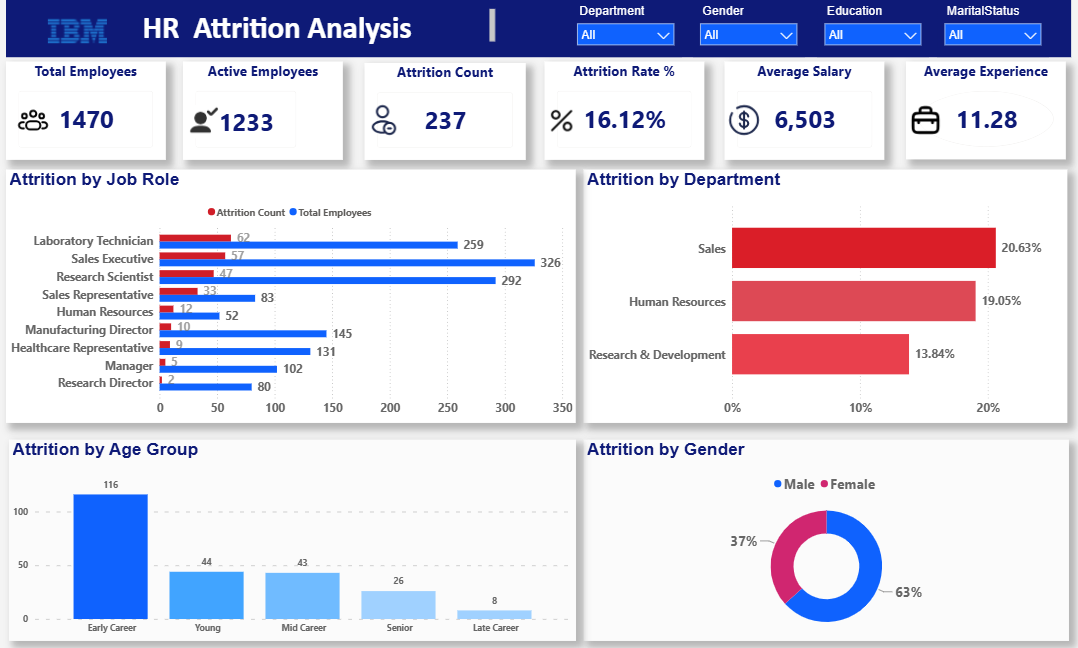

The dashboard page shown, as its layout file describes it:
{"tool":"powerbi","page":{"name":"Excutive Summery ","canvas":[1500,900],"ordinal":0},"visuals":[{"type":"cardVisual","title":"Total  Employees","fields":{"Data":["ibm_hr employee_attrition_dataset.Total Employees"]},"box":[9.1,88.6,222,136.4],"z":0},{"type":"cardVisual","title":"Active Employees","fields":{"Data":["ibm_hr employee_attrition_dataset.Active Employees"]},"box":[256.8,88.6,222.7,136.4],"z":1000},{"type":"cardVisual","title":"Attrition Count","fields":{"Data":["ibm_hr employee_attrition_dataset.Attrition Count"]},"box":[506.8,86.4,222.7,136],"z":2000},{"type":"cardVisual","title":"Attrition Rate %","fields":{"Data":["ibm_hr employee_attrition_dataset.Attrition Rate %"]},"box":[756.8,88.6,222,136.4],"z":3000},{"type":"cardVisual","title":"Average Salary","fields":{"Data":["ibm_hr employee_attrition_dataset.Average Salary"]},"box":[1006.8,88.6,222.7,136.4],"z":4000},{"type":"cardVisual","title":"Average Experience","fields":{"Data":["ibm_hr employee_attrition_dataset.Average Experience"]},"box":[1259.1,88.6,222.7,136],"z":5000},{"type":"shape","title":"HR  Attrition Analysis","box":[9.1,0,1479,79.5],"z":6000},{"type":"clusteredBarChart","title":"Attrition by Department","fields":{"Category":["ibm_hr employee_attrition_dataset.Department"],"Y":["ibm_hr employee_attrition_dataset.Attrition Rate %"]},"box":[809.6,234.8,672,352.2],"z":7000},{"type":"clusteredBarChart","title":"Attrition by Job Role","fields":{"Category":["ibm_hr employee_attrition_dataset.JobRole"],"Y":["ibm_hr employee_attrition_dataset.Attrition Count","ibm_hr employee_attrition_dataset.Total Employees"]},"box":[8.1,234.8,791.4,352.2],"z":8000},{"type":"donutChart","title":"Attrition by Gender","fields":{"Category":["ibm_hr employee_attrition_dataset.Gender"],"Y":["ibm_hr employee_attrition_dataset.Attrition Count"]},"box":[809.6,611.3,674,279.3],"z":9000},{"type":"columnChart","title":"Attrition by Age Group","fields":{"Category":["ibm_hr employee_attrition_dataset.Age_Group"],"Y":["ibm_hr employee_attrition_dataset.Attrition Count"]},"box":[12.1,611.3,787.3,279.3],"z":10000},{"type":"group","id":"g1","title":"Group 1","box":[790.9,0.2,665.4,79.5],"z":11000},{"type":"slicer","fields":{"Values":["ibm_hr employee_attrition_dataset.Department"]},"box":[790.9,0.2,154.5,79.5],"z":12000,"group":"g1"},{"type":"actionButton","box":[1271.7,139.1,69,54.3],"z":12000},{"type":"slicer","fields":{"Values":["ibm_hr employee_attrition_dataset.MaritalStatus"]},"box":[1302.3,0.2,154,79],"z":12500,"group":"g1"},{"type":"slicer","fields":{"Values":["ibm_hr employee_attrition_dataset.Gender"]},"box":[961.4,0.2,154.5,79.5],"z":13000,"group":"g1"},{"type":"actionButton","box":[1017.4,139.1,69,54.3],"z":13000},{"type":"actionButton","box":[758.7,145.7,43.5,43.5],"z":14000},{"type":"slicer","fields":{"Values":["ibm_hr employee_attrition_dataset.Education"]},"box":[1134.1,0.2,154,79.5],"z":15000,"group":"g1"},{"type":"actionButton","box":[521.7,134.8,69,54],"z":15000},{"type":"actionButton","box":[269.6,139.1,69.6,54.3],"z":16000},{"type":"actionButton","box":[26.1,137,69.6,54.3],"z":17000},{"type":"textbox","box":[93.5,6.5,600,60.9],"z":18000},{"type":"actionButton","box":[63.3,0,120,90],"z":19001}]}

Visuals, with their boxes in screenshot pixels (x1, y1, x2, y2), scaled from the page's 1500x900 canvas onto the 1078x648 screenshot:
"Total  Employees" cardVisual: (7, 64, 166, 162)
"Active Employees" cardVisual: (185, 64, 345, 162)
"Attrition Count" cardVisual: (364, 62, 524, 160)
"Attrition Rate %" cardVisual: (544, 64, 703, 162)
"Average Salary" cardVisual: (724, 64, 884, 162)
"Average Experience" cardVisual: (905, 64, 1065, 162)
"HR  Attrition Analysis" shape: (7, 0, 1069, 57)
"Attrition by Department" clusteredBarChart: (582, 169, 1065, 423)
"Attrition by Job Role" clusteredBarChart: (6, 169, 575, 423)
"Attrition by Gender" donutChart: (582, 440, 1066, 641)
"Attrition by Age Group" columnChart: (9, 440, 575, 641)
"Group 1" group: (568, 0, 1047, 57)
slicer - ibm_hr employee_attrition_dataset.Department: (568, 0, 679, 57)
actionButton: (914, 100, 964, 139)
slicer - ibm_hr employee_attrition_dataset.MaritalStatus: (936, 0, 1047, 57)
slicer - ibm_hr employee_attrition_dataset.Gender: (691, 0, 802, 57)
actionButton: (731, 100, 781, 139)
actionButton: (545, 105, 577, 136)
slicer - ibm_hr employee_attrition_dataset.Education: (815, 0, 926, 57)
actionButton: (375, 97, 425, 136)
actionButton: (194, 100, 244, 139)
actionButton: (19, 99, 69, 138)
textbox: (67, 5, 498, 49)
actionButton: (45, 0, 132, 65)
